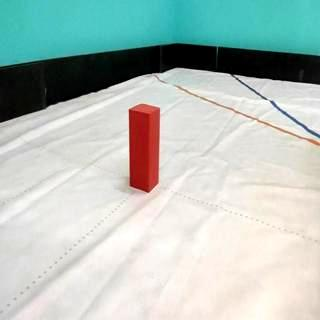redbox: (129, 104, 161, 194)
